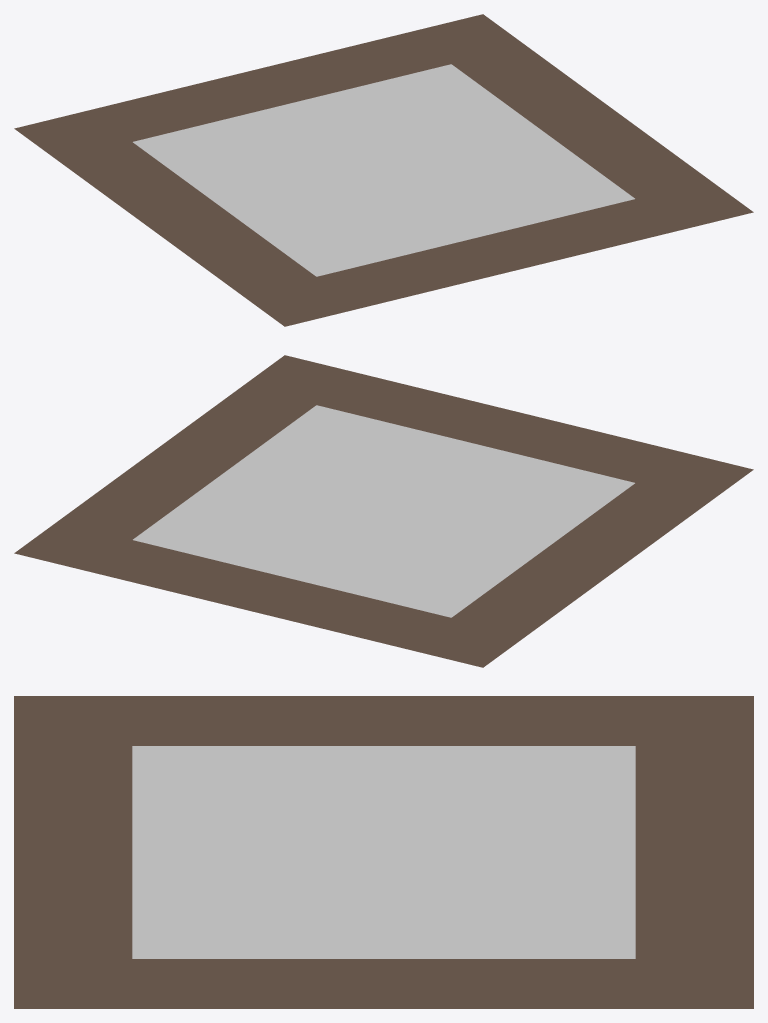
The model's file is SelectionIcon.fbx.
3 renders of one model, top to bottom at view 1: azimuth 30°, elevation 25°; view 2: azimuth 150°, elevation 25°; view 3: azimuth 270°, elevation 25°, orthographic. The views are drawn at different scales.
Parts seen in each view (by area): view 1: Plane; view 2: Plane; view 3: Plane.
Boxes of the visible parts, x1,y1,x2,y2 form: Plane: (14, 14, 753, 326); Plane: (14, 355, 753, 667); Plane: (14, 696, 753, 1008).
Size of the model in its own units: 1 by 0.01 by 1.
